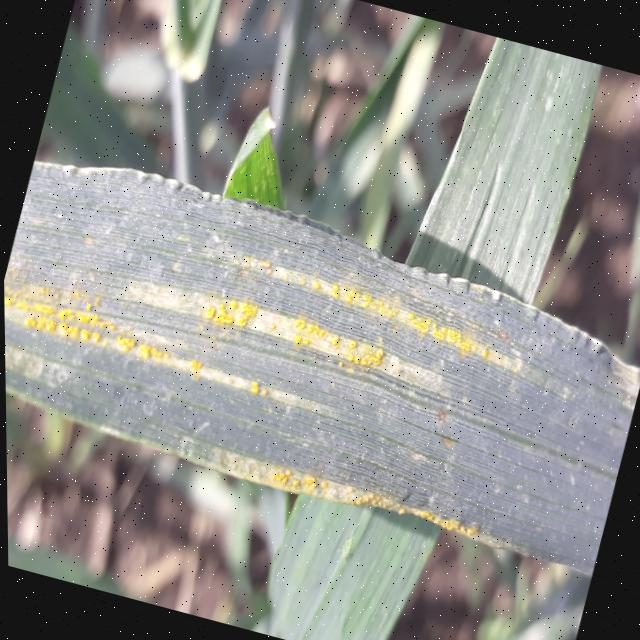yellow_rust: (1, 96, 609, 602)
